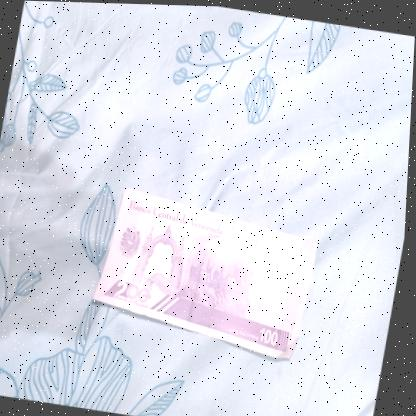one_hundred-back-vef: (89, 183, 326, 360)
